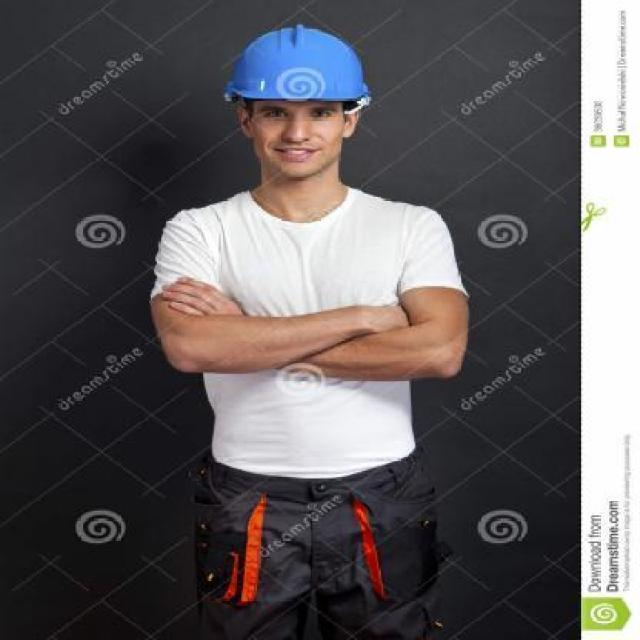helmet: (205, 25, 380, 114)
no-vest: (151, 183, 469, 476)
